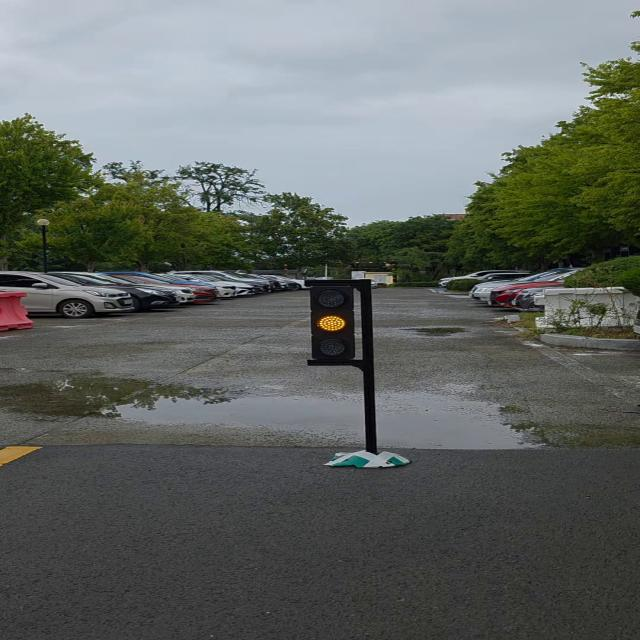yellow: (308, 281, 373, 367)
